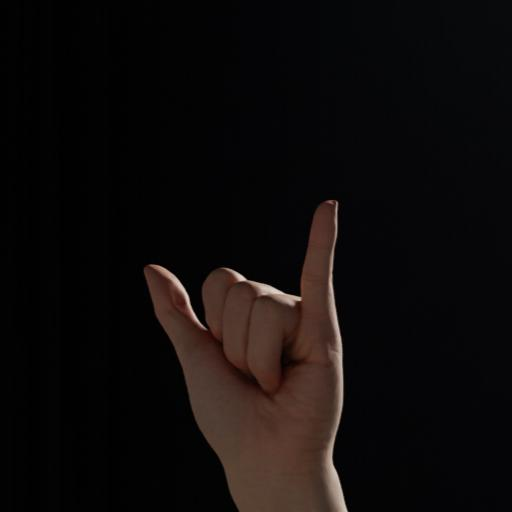Y: (124, 133, 428, 512)
